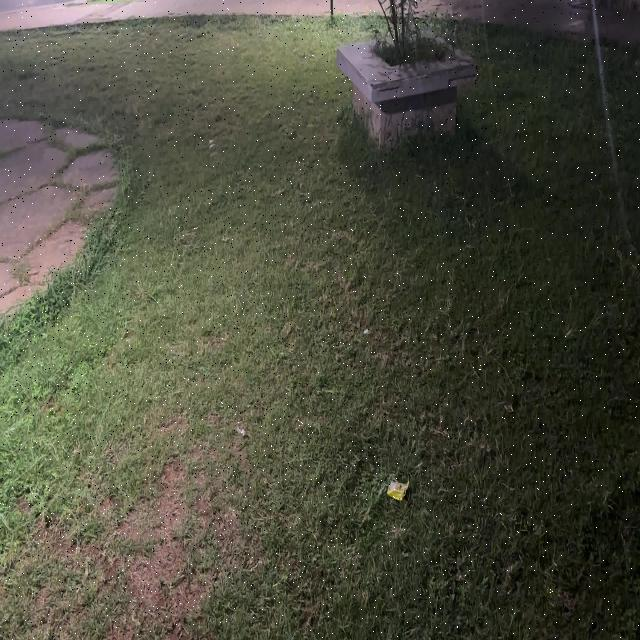garbage_dumping: (385, 470, 414, 508)
